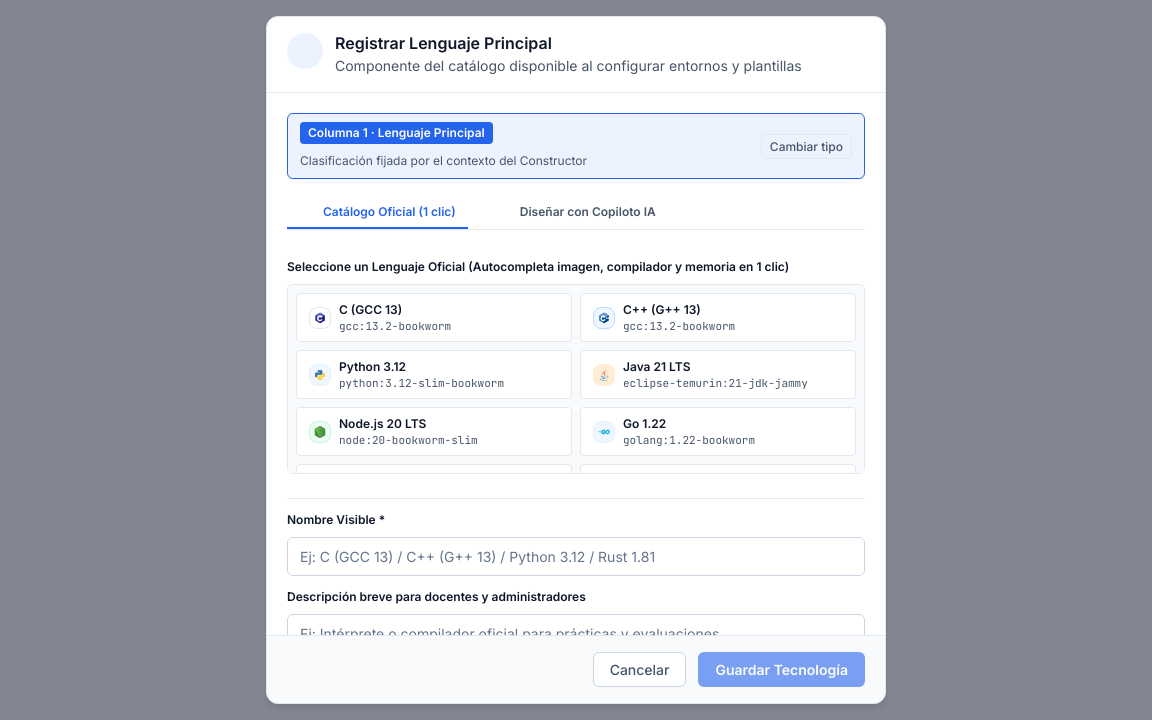
Test case: ComponentFormModalComponent › Unified Catalog Profiles and Ecosystem Synchronization › should lock context and display banner when lockContext=true without editingComponent
This screenshot has width=1152, height=720.
Expected: the element with class "context-lock-banner" is shown, [287,113,865,179]
Click the button with class "btn-unlock-context" at [806, 146], box [761,134,852,158]
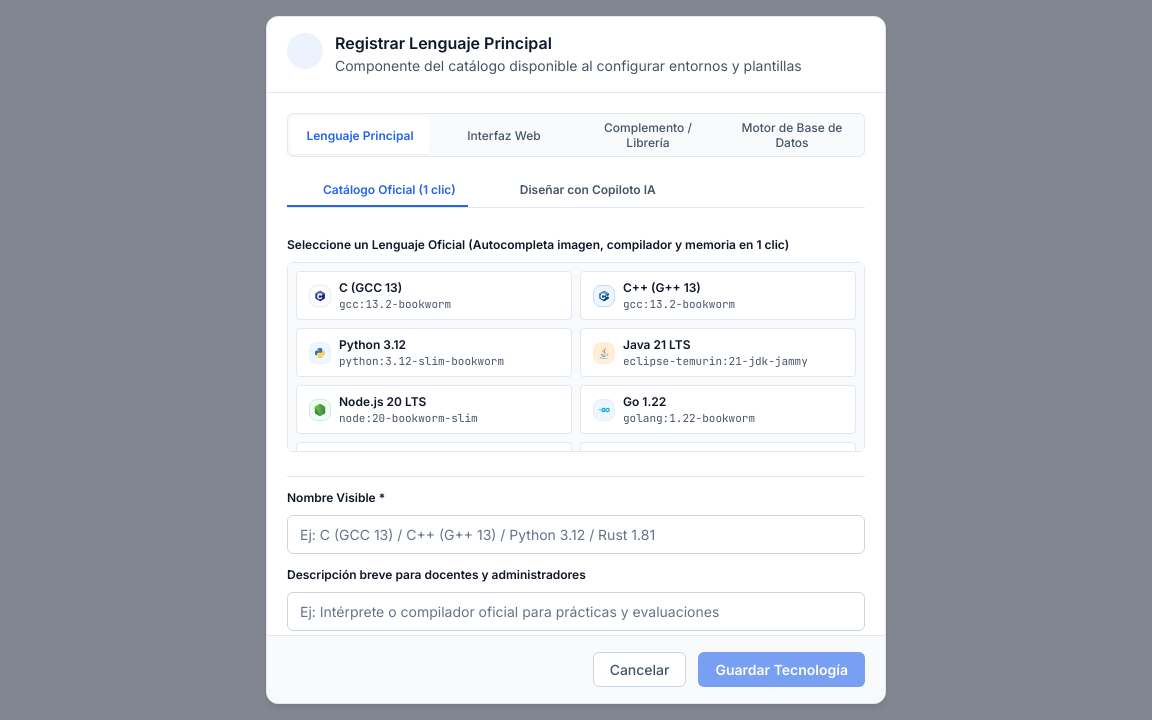
Now the element with id "comp-layer" is shown, box [287,113,865,157]
